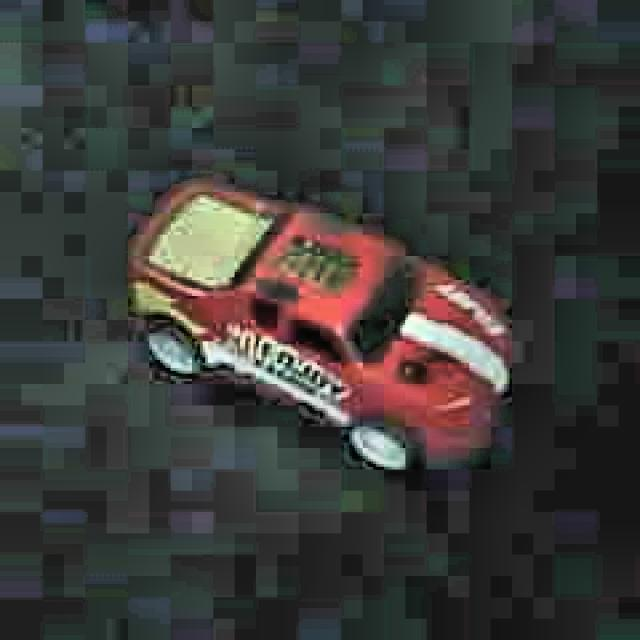car: (126, 175, 518, 490)
